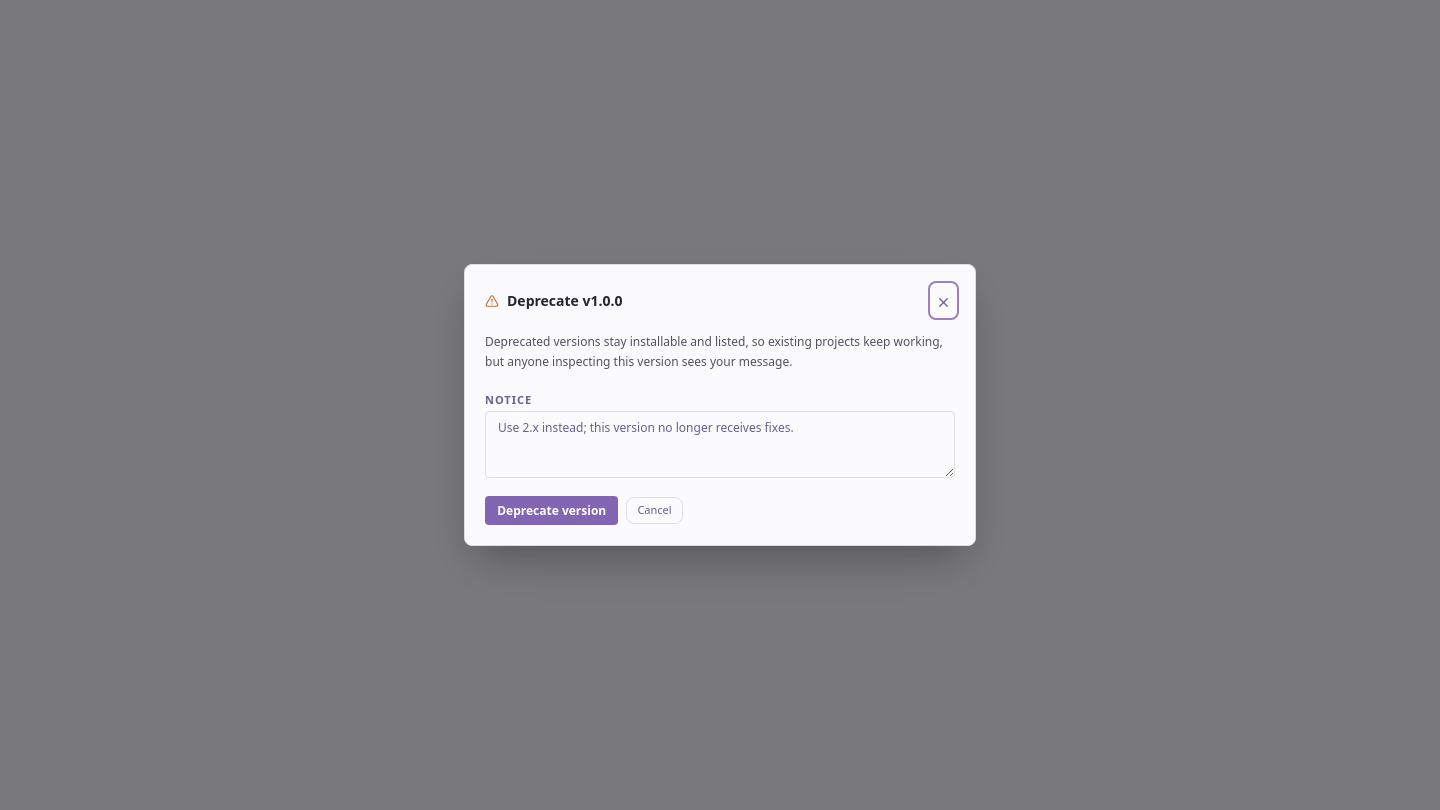
Test: DeprecateVersionModal › surfaces a save failure
In the text box labelled "Notice": (720, 444) [485,411,955,478], type "Use 2.x instead."
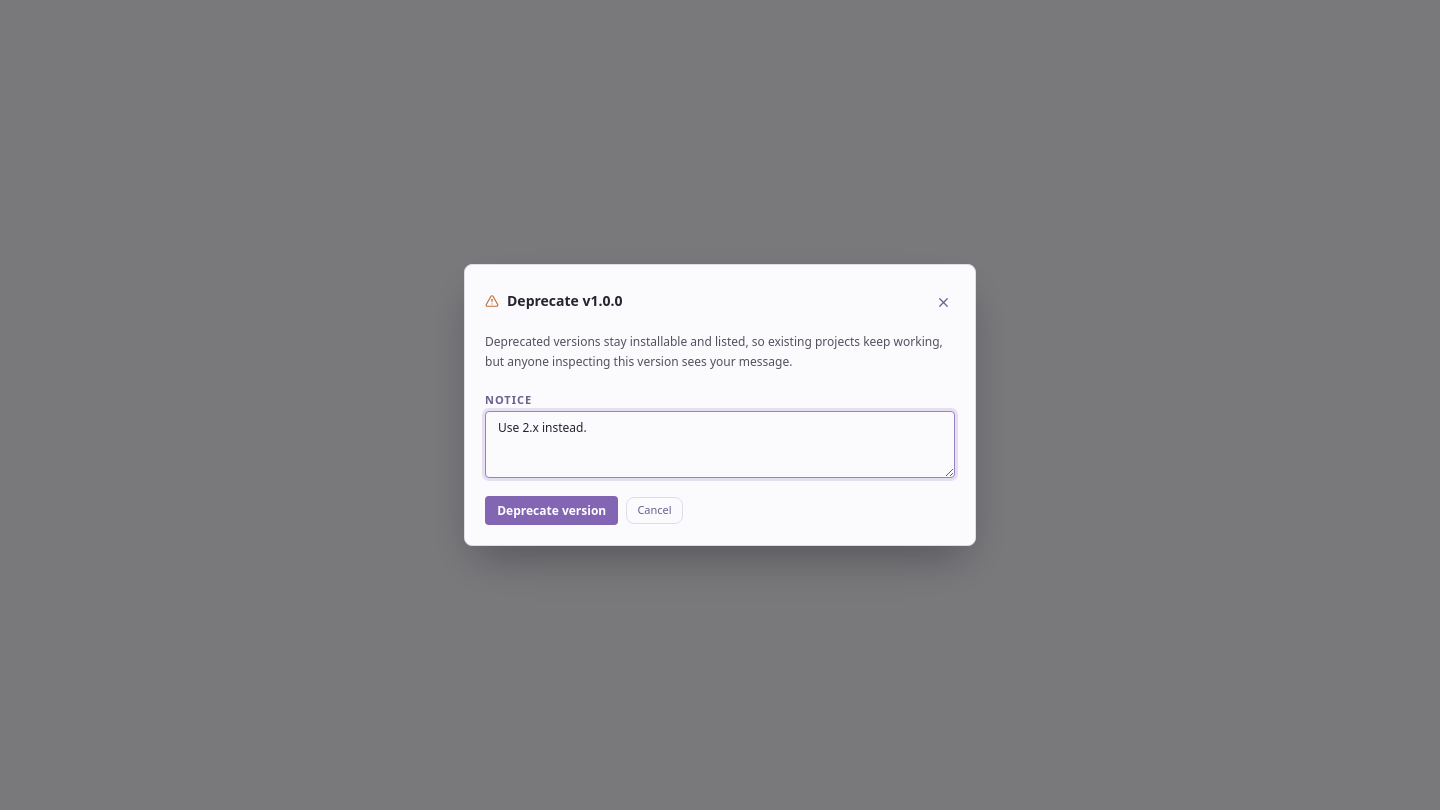
Click the button "Deprecate version": (552, 511) [485,496,618,525]
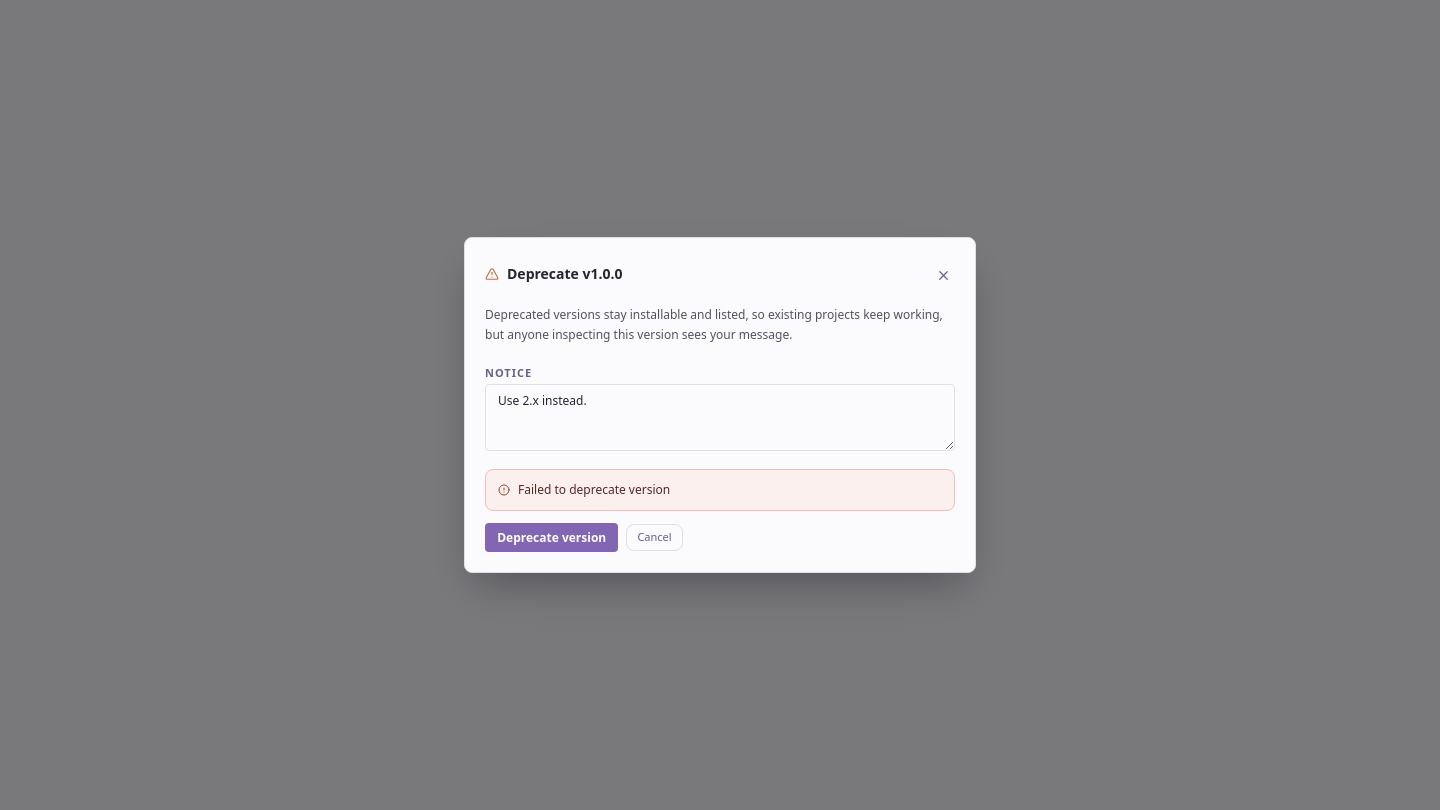
expect the text "Failed to deprecate version" is shown: met, box [518,482,670,498]
